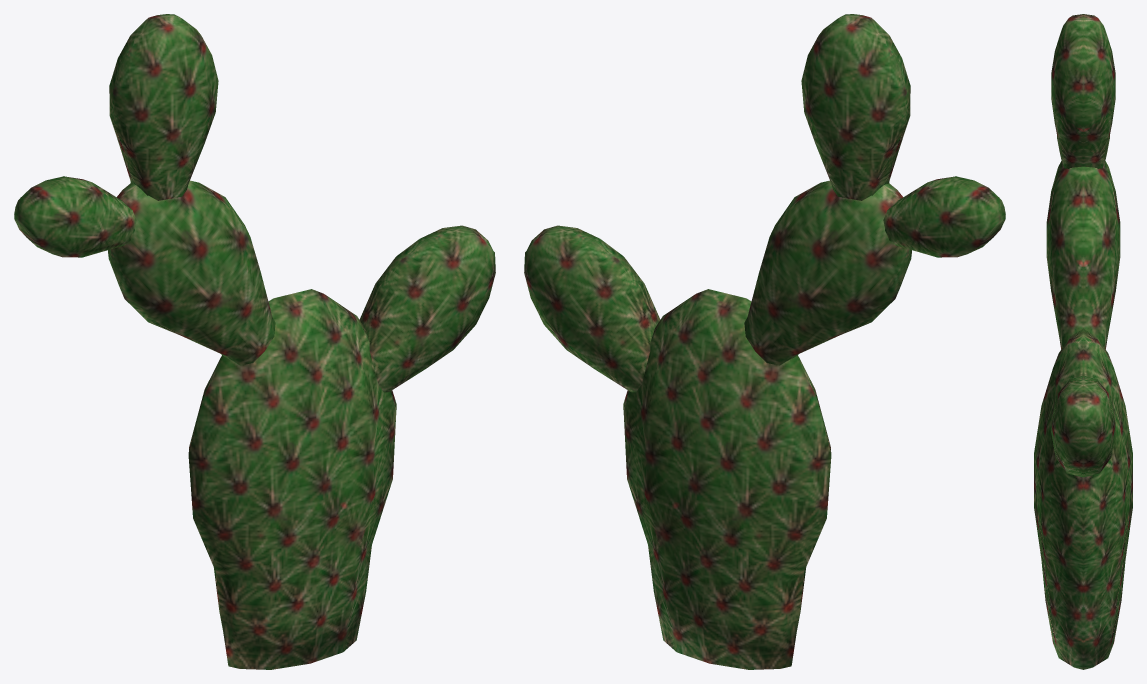
The model's file is cactus-08.fbx.
The picture shows the model from 3 angles, left to right: view 1: azimuth 30°, elevation 25°; view 2: azimuth 150°, elevation 25°; view 3: azimuth 270°, elevation 25°; orthographic projection. The views are drawn at different scales.
Visible parts, largest first — view 1: Sphere.004_Sphere.005; view 2: Sphere.004_Sphere.005; view 3: Sphere.004_Sphere.005.
Part boxes in pixels (x1,y1,x2,y2): Sphere.004_Sphere.005: (14, 14, 495, 669); Sphere.004_Sphere.005: (524, 14, 1005, 669); Sphere.004_Sphere.005: (1034, 14, 1132, 669).
Size of the model in its own units: 0.8999 by 1.21 by 0.1902.
